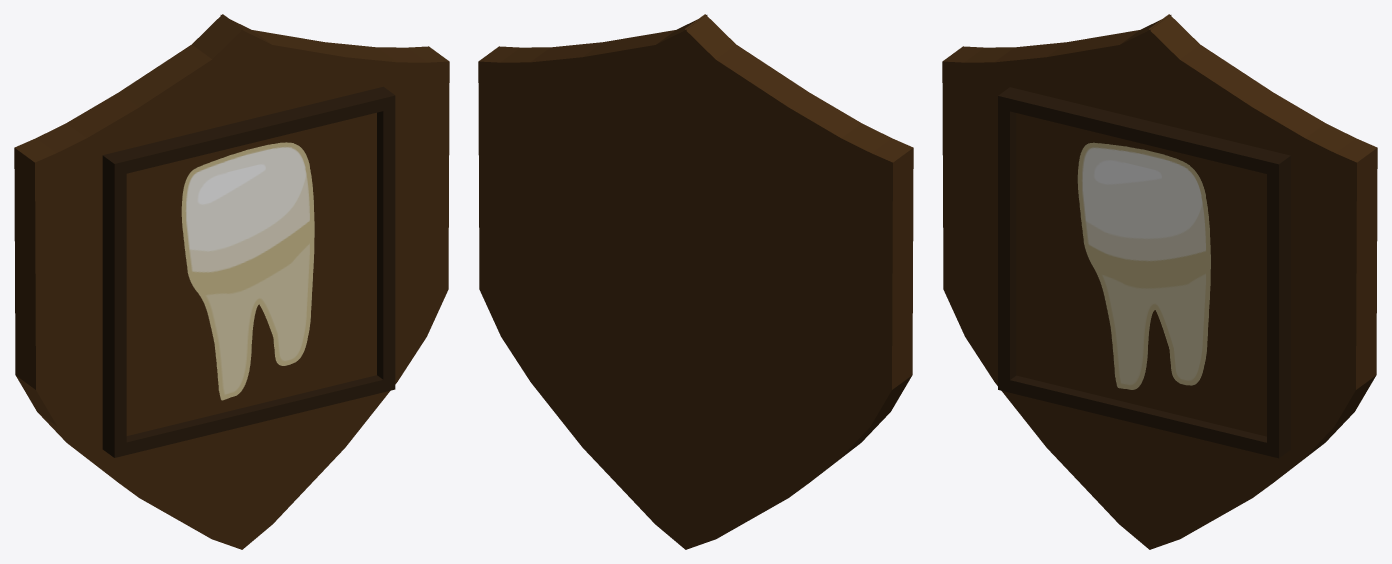
Rendered from Teeth_crest.fbx.
The picture shows the model from 3 angles, left to right: view 1: azimuth 30°, elevation 25°; view 2: azimuth 150°, elevation 25°; view 3: azimuth 330°, elevation 25°; orthographic projection.
Visible parts, largest first — view 1: Cube; view 2: Cube; view 3: Cube.
Part boxes in pixels (x1,y1,x2,y2): Cube: [14, 14, 449, 549]; Cube: [478, 14, 913, 549]; Cube: [942, 14, 1377, 549].
Size of the model in its own units: 50 by 60 by 6.8.
